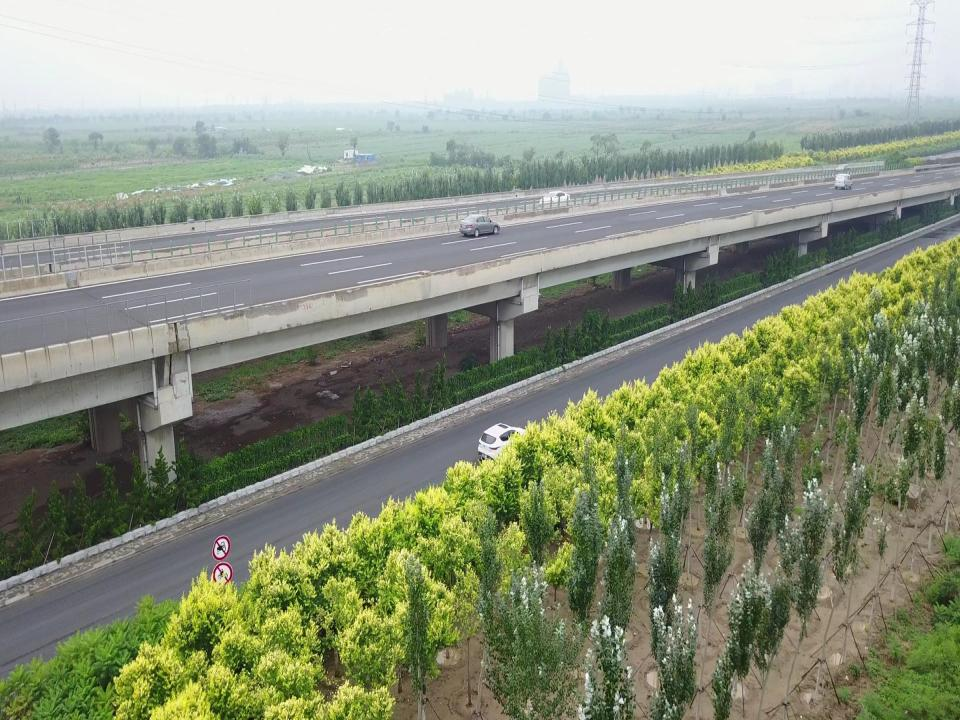car: (478, 422, 526, 459), (460, 216, 501, 236), (541, 190, 572, 205), (835, 171, 852, 190)
